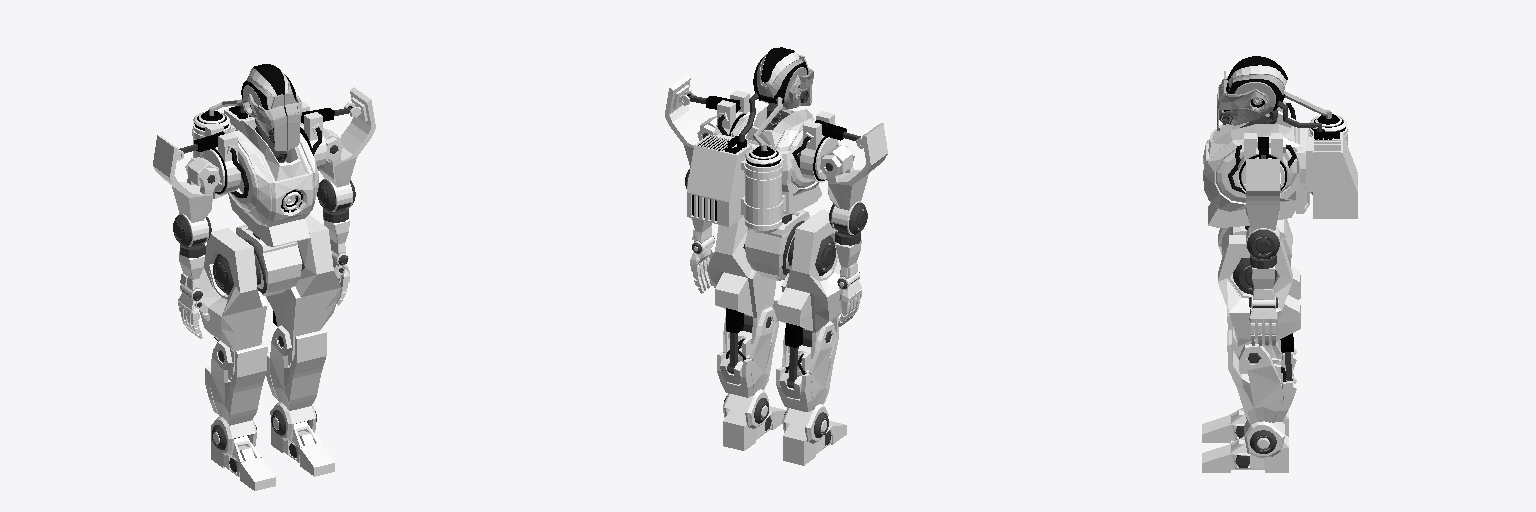
The model's file is Argon.obj.
3 views of the same model, side by side, from view 1: azimuth 30°, elevation 25°; view 2: azimuth 150°, elevation 25°; view 3: azimuth 270°, elevation 25° (orthographic).
Visible parts, largest first — view 1: Cube.021, Cylinder.059_Cylinder.032, Cylinder.064_Cylinder.036, Cube.020, Cube.014, Cube.019, Group50324.050, Group50324.035, Group50324.049, Cube.015, Cube.022, Cube.018 (+9 smaller); view 2: Cube.021, Cylinder.059_Cylinder.032, Cylinder.064_Cylinder.036, Cube.023, Cube.015, Group50324.049, Group50324.054, Cube.019, Group50324.035, Cube.020, Group50324.055, Cylinder.053_Cylinder.027 (+13 smaller); view 3: Cylinder.059_Cylinder.032, Cube.021, Cube.023, Cube.020, Group50324.049, Cylinder.064_Cylinder.036, Cube.014, Cube.018, Cube.015, Cube.022, Group50324.050, Group50324.035 (+5 smaller).
Boxes of the visible parts, x1,y1,x2,y2 form: Cube.021: [199, 215, 341, 376]; Cylinder.059_Cylinder.032: [205, 325, 326, 455]; Cylinder.064_Cylinder.036: [153, 87, 375, 222]; Cube.020: [224, 130, 318, 226]; Cube.014: [238, 431, 334, 490]; Cube.019: [236, 225, 302, 296]; Group50324.050: [242, 93, 301, 150]; Group50324.035: [203, 102, 326, 194]; Group50324.049: [241, 64, 296, 138]; Cube.015: [211, 421, 320, 476]; Cube.022: [228, 193, 309, 246]; Cube.018: [235, 118, 305, 180]; Cube.021: [707, 209, 841, 358]; Cylinder.059_Cylinder.032: [717, 300, 838, 443]; Cylinder.064_Cylinder.036: [665, 75, 887, 210]; Cube.023: [687, 134, 751, 226]; Cube.015: [723, 409, 832, 465]; Group50324.049: [753, 47, 807, 109]; Group50324.054: [745, 146, 781, 232]; Cube.019: [745, 210, 809, 280]; Group50324.035: [715, 90, 837, 182]; Cube.020: [730, 110, 818, 195]; Group50324.055: [740, 159, 785, 224]; Cylinder.053_Cylinder.027: [691, 218, 861, 278]; Cylinder.059_Cylinder.032: [1227, 309, 1293, 457]; Cube.021: [1218, 219, 1300, 373]; Cube.023: [1313, 132, 1357, 218]; Cube.020: [1203, 119, 1302, 211]; Group50324.049: [1223, 56, 1287, 125]; Cylinder.064_Cylinder.036: [1246, 63, 1280, 231]; Cube.014: [1202, 410, 1249, 472]; Cube.018: [1208, 111, 1295, 157]; Cube.015: [1230, 408, 1288, 472]; Cube.022: [1208, 201, 1295, 227]; Group50324.050: [1217, 71, 1268, 130]; Group50324.035: [1238, 101, 1288, 192].
Bounding box in the file's own units: 1.09 × 1.98 × 0.7134.